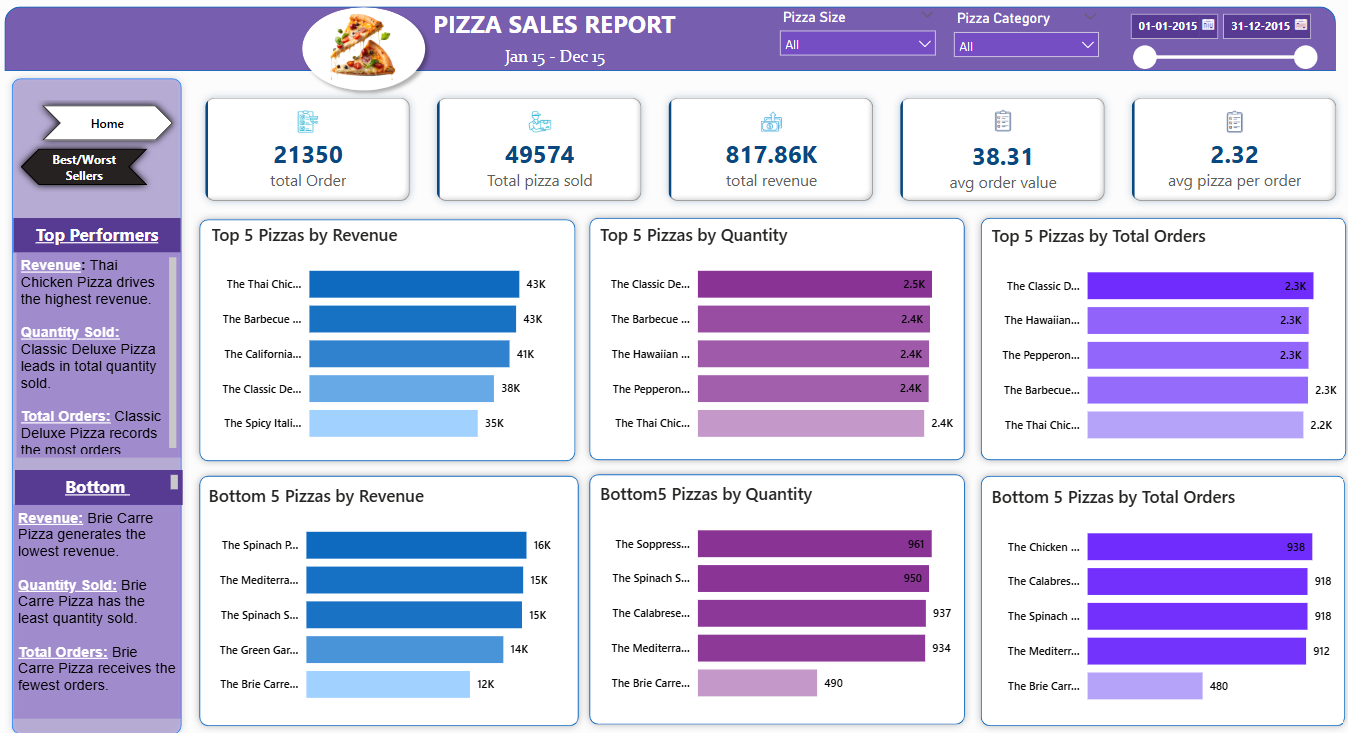

The dashboard page shown, as its layout file describes it:
{"tool":"powerbi","page":{"name":"Best/Worst Sellers","canvas":[1500,820],"ordinal":1},"visuals":[{"type":"shape","box":[8.8,78.8,203.8,741.2],"z":0},{"type":"cardVisual","fields":{"Data":["pizza_sales pizza_sales.total Order","pizza_sales pizza_sales.Total pizza sold","pizza_sales pizza_sales.total revenue","pizza_sales pizza_sales.avg order value","pizza_sales pizza_sales.avg pizza per order"]},"box":[214.3,92.1,1285.7,146],"z":1000},{"type":"shape","box":[8.6,8.6,1471.4,71.4],"z":2000},{"type":"textbox","box":[369.7,3.3,492.3,71.3],"z":3000},{"type":"textbox","box":[535.4,46.4,162.5,33.2],"z":4000},{"type":"shape","box":[215,235,431.7,283.3],"z":6000},{"type":"shape","box":[328.2,0,154,110],"z":12500,"group":"g1"},{"type":"textbox","box":[18.9,242.2,184.4,37.8],"z":16000},{"type":"textbox","box":[21.7,280,181.7,226.7],"z":17000},{"type":"textbox","box":[20,520,185,38.3],"z":18000},{"type":"textbox","box":[18.3,558.3,185,236.7],"z":19000},{"type":"slicer","fields":{"Values":["pizza_sales pizza_sales.pizza_category"]},"box":[1047.1,7.1,180,71.4],"z":20000},{"type":"slicer","fields":{"Values":["pizza_sales pizza_sales.pizza_size"]},"box":[855.4,5,192.3,71.3],"z":21000},{"type":"slicer","fields":{"Values":["pizza_sales pizza_sales.order_date"]},"box":[1240,6.6,227.1,82.9],"z":22000},{"type":"shape","box":[647.1,234.3,431.4,284.3],"z":23001},{"type":"shape","box":[1078.6,234.3,421.4,284.3],"z":23002},{"type":"shape","box":[215.7,518.6,435.7,292.9],"z":23003},{"type":"shape","box":[647.1,517.1,431.4,292.9],"z":23004},{"type":"shape","box":[1080,518.6,420,292.9],"z":23005},{"type":"barChart","title":"Top 5 Pizzas by Revenue","fields":{"Category":["pizza_sales pizza_sales.pizza_name"],"Y":["pizza_sales pizza_sales.total revenue"]},"box":[231.7,246.7,401.7,258.3],"z":23006},{"type":"barChart","title":" Bottom 5 Pizzas by Revenue","fields":{"Category":["pizza_sales pizza_sales.pizza_name"],"Y":["pizza_sales pizza_sales.total revenue"]},"box":[228.3,535,401.7,258.3],"z":23007},{"type":"barChart","title":"Top 5 Pizzas by Quantity","fields":{"Category":["pizza_sales pizza_sales.pizza_name"],"Y":["pizza_sales pizza_sales.Total pizza sold"]},"box":[661.7,246.7,401.7,258.3],"z":23008},{"type":"barChart","title":"Bottom5 Pizzas by Quantity","fields":{"Category":["pizza_sales pizza_sales.pizza_name"],"Y":["pizza_sales pizza_sales.Total pizza sold"]},"box":[661.7,533.3,401.7,258.3],"z":23009},{"type":"barChart","title":"Top 5 Pizzas by Total Orders","fields":{"Category":["pizza_sales pizza_sales.pizza_name"],"Y":["pizza_sales pizza_sales.total Order"]},"box":[1093.3,248.3,391.7,258.3],"z":23010},{"type":"barChart","title":"Bottom 5 Pizzas by Total Orders","fields":{"Category":["pizza_sales pizza_sales.pizza_name"],"Y":["pizza_sales pizza_sales.total Order"]},"box":[1093.3,536.7,391.7,258.3],"z":23011},{"type":"pageNavigator","box":[41.8,110,161.8,55.5],"z":23012},{"type":"pageNavigator","box":[18.2,157.3,156.4,56.4],"z":23013},{"type":"group","id":"g1","title":"Group 1","box":[328.2,0,154.2,109.4],"z":23014},{"type":"image","box":[345.3,8,119.8,92],"z":25000,"group":"g1"}]}

Visuals, with their boxes in screenshot pixels (x1, y1, x2, y2), scaled from the page's 1500x820 canvas onto the 1348x733 screenshot:
shape: bbox(8, 70, 191, 732)
cardVisual - pizza_sales pizza_sales.total Order x pizza_sales pizza_sales.Total pizza sold: bbox(193, 82, 1347, 213)
shape: bbox(8, 8, 1330, 72)
textbox: bbox(332, 3, 775, 67)
textbox: bbox(481, 41, 627, 71)
shape: bbox(193, 210, 581, 463)
shape: bbox(295, 0, 433, 98)
textbox: bbox(17, 217, 183, 250)
textbox: bbox(20, 250, 183, 453)
textbox: bbox(18, 465, 184, 499)
textbox: bbox(16, 499, 183, 711)
slicer - pizza_sales pizza_sales.pizza_category: bbox(941, 6, 1103, 70)
slicer - pizza_sales pizza_sales.pizza_size: bbox(769, 4, 942, 68)
slicer - pizza_sales pizza_sales.order_date: bbox(1114, 6, 1318, 80)
shape: bbox(582, 209, 969, 464)
shape: bbox(969, 209, 1347, 464)
shape: bbox(194, 464, 585, 725)
shape: bbox(582, 462, 969, 724)
shape: bbox(971, 464, 1347, 725)
"Top 5 Pizzas by Revenue" barChart: bbox(208, 221, 569, 451)
" Bottom 5 Pizzas by Revenue" barChart: bbox(205, 478, 566, 709)
"Top 5 Pizzas by Quantity" barChart: bbox(595, 221, 956, 451)
"Bottom5 Pizzas by Quantity" barChart: bbox(595, 477, 956, 708)
"Top 5 Pizzas by Total Orders" barChart: bbox(983, 222, 1335, 453)
"Bottom 5 Pizzas by Total Orders" barChart: bbox(983, 480, 1335, 711)
pageNavigator: bbox(38, 98, 183, 148)
pageNavigator: bbox(16, 141, 157, 191)
"Group 1" group: bbox(295, 0, 434, 98)
image: bbox(310, 7, 418, 89)
